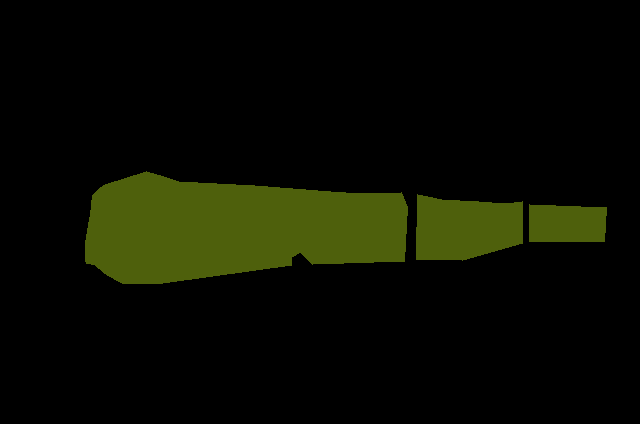Train: (85, 171, 606, 283)
